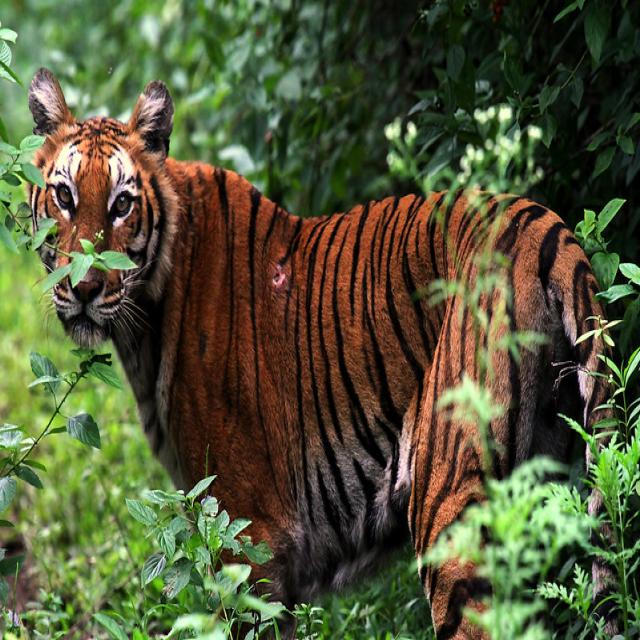Tiger: (24, 66, 621, 638)
